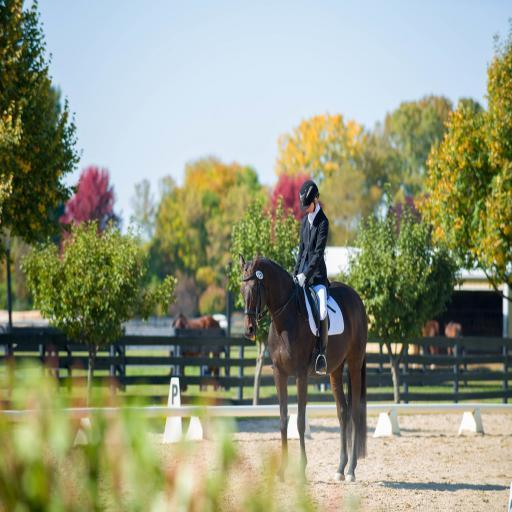horse: (238, 249, 369, 485), (169, 314, 226, 390), (413, 319, 443, 369), (444, 319, 464, 365)
